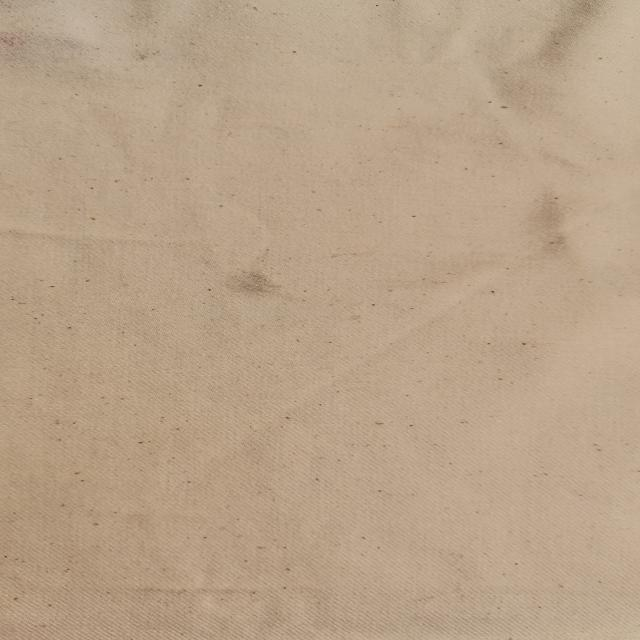taaaches: (516, 186, 581, 264), (222, 261, 287, 302)
